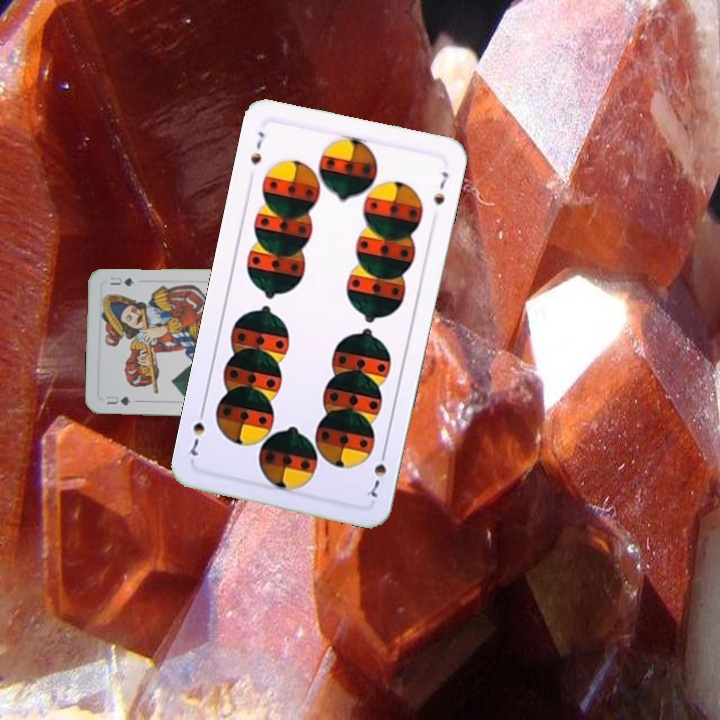GU: (102, 391, 134, 408)
S7: (362, 445, 389, 500), (246, 127, 269, 167)
